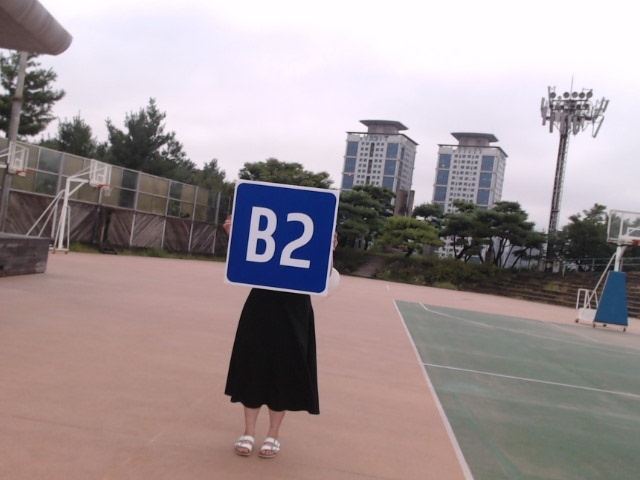delivery_b2: (224, 182, 338, 294)
